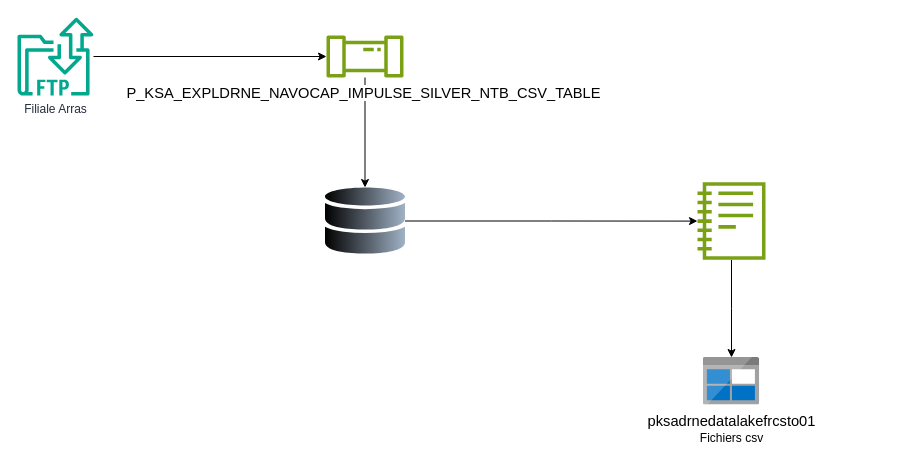
The diagram is 923 pixels wide and 463 high, and some of its shapes have lost their labels. Here are the shapes that lost their labels. From the top down, the box of each, then its label:
(324, 187, 404, 254): P_KSA_DRNE_NAVOCAP_BRONZESILVER_LKH
(697, 182, 765, 260): P_KSA_EXPLDRNE_NAVOCAP_IMPULSE_GOLD_TABLE_CSV
